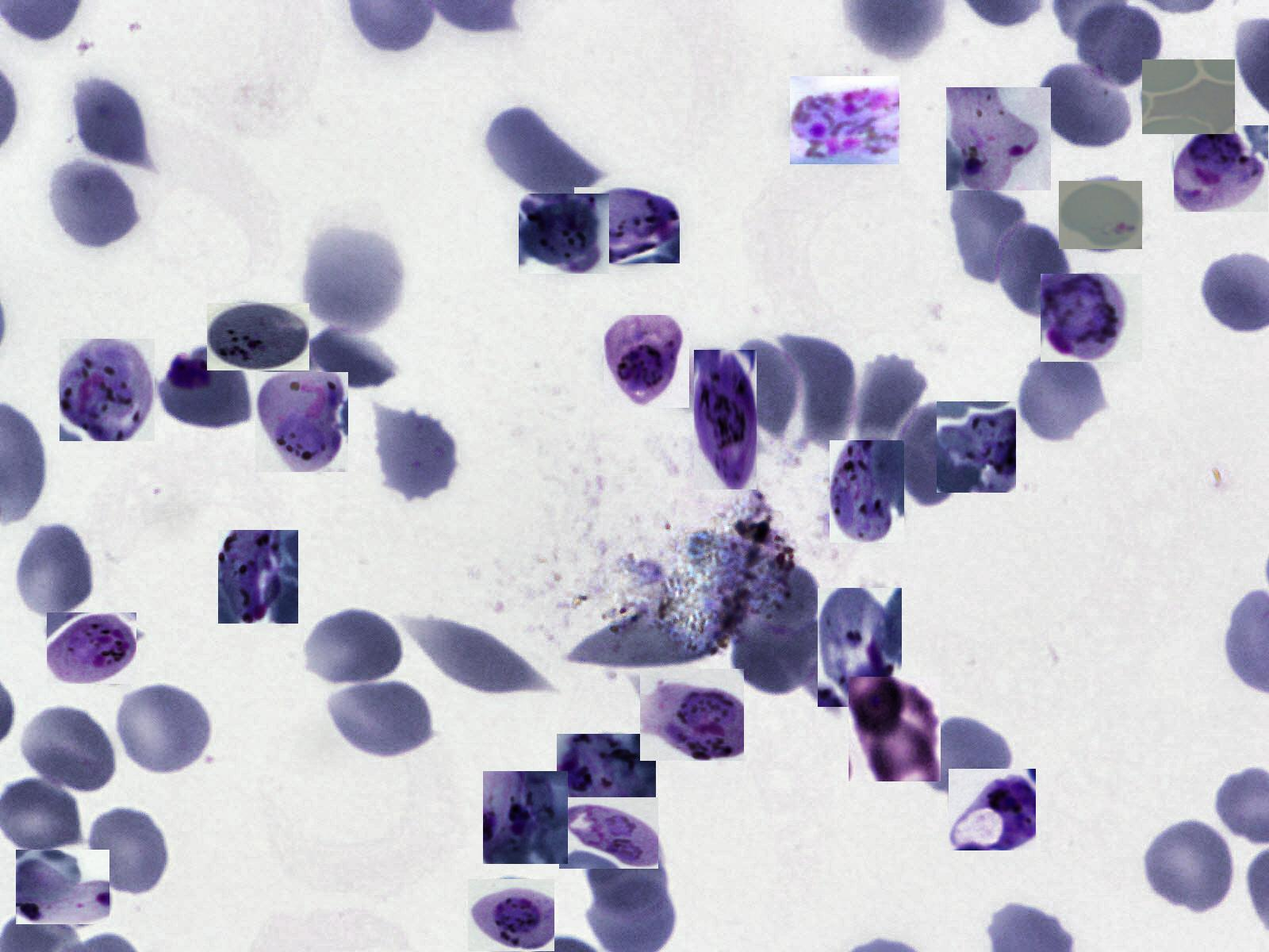Infected: (946, 87, 1051, 190), (818, 588, 902, 707), (59, 339, 155, 441), (790, 76, 899, 164), (640, 669, 744, 761), (849, 677, 941, 781), (557, 734, 656, 828), (255, 372, 348, 472), (1041, 274, 1142, 362), (695, 350, 757, 489), (1174, 125, 1268, 212), (574, 187, 680, 263), (483, 771, 568, 864), (604, 315, 689, 408), (830, 440, 904, 543), (218, 530, 298, 624), (937, 401, 1016, 493), (519, 194, 609, 274), (559, 797, 658, 869), (949, 769, 1036, 850), (1142, 60, 1235, 134), (16, 850, 109, 924), (207, 303, 309, 370), (47, 612, 136, 684), (468, 879, 554, 951), (1059, 181, 1142, 249)
Uninfected: (297, 219, 411, 332), (485, 110, 604, 205), (399, 619, 546, 695), (323, 678, 440, 762), (370, 405, 462, 505), (776, 335, 850, 455), (52, 150, 141, 248), (728, 613, 828, 700), (21, 709, 119, 797), (13, 519, 98, 620), (1145, 821, 1234, 914), (117, 687, 212, 774), (70, 72, 153, 171), (850, 350, 932, 449), (1021, 352, 1110, 441), (945, 179, 1021, 283), (915, 715, 1011, 797), (159, 346, 251, 431), (1038, 66, 1127, 152), (994, 221, 1069, 323), (301, 606, 401, 682), (1073, 6, 1163, 84), (729, 339, 801, 436), (895, 400, 959, 506), (90, 811, 169, 892), (303, 329, 404, 388), (587, 845, 667, 917)
